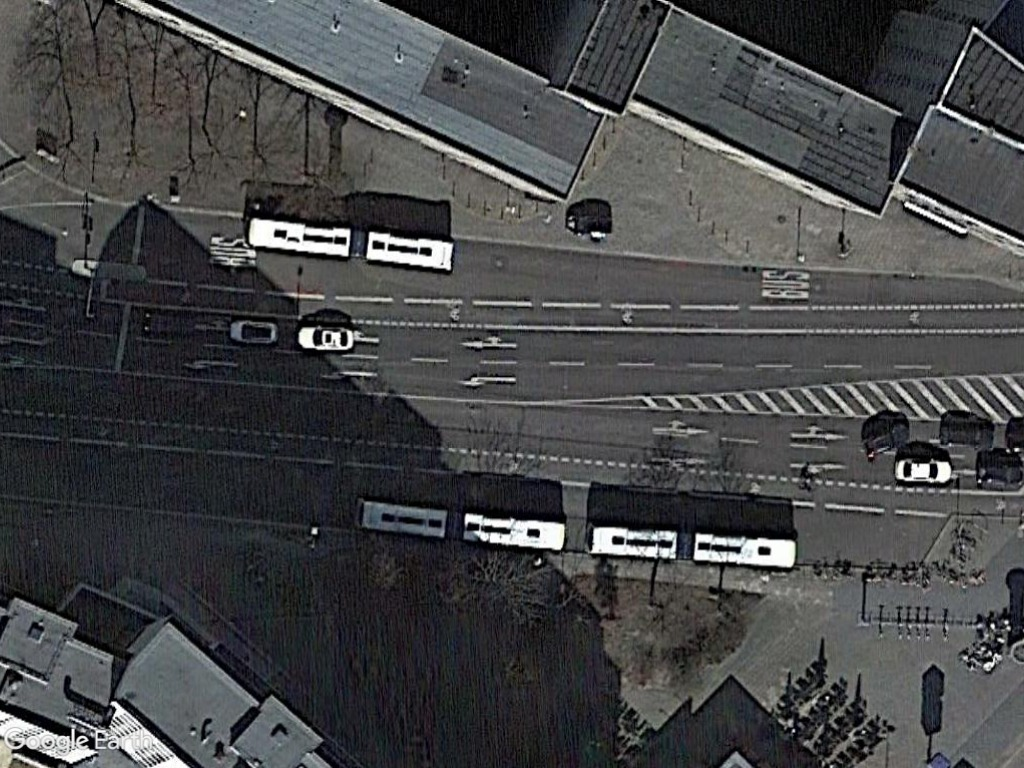bus: (241, 211, 354, 265), (460, 504, 572, 553), (688, 525, 802, 573), (350, 490, 454, 542), (359, 224, 458, 275), (581, 517, 684, 563)
car: (286, 318, 358, 355), (891, 451, 958, 487), (224, 315, 282, 346)
